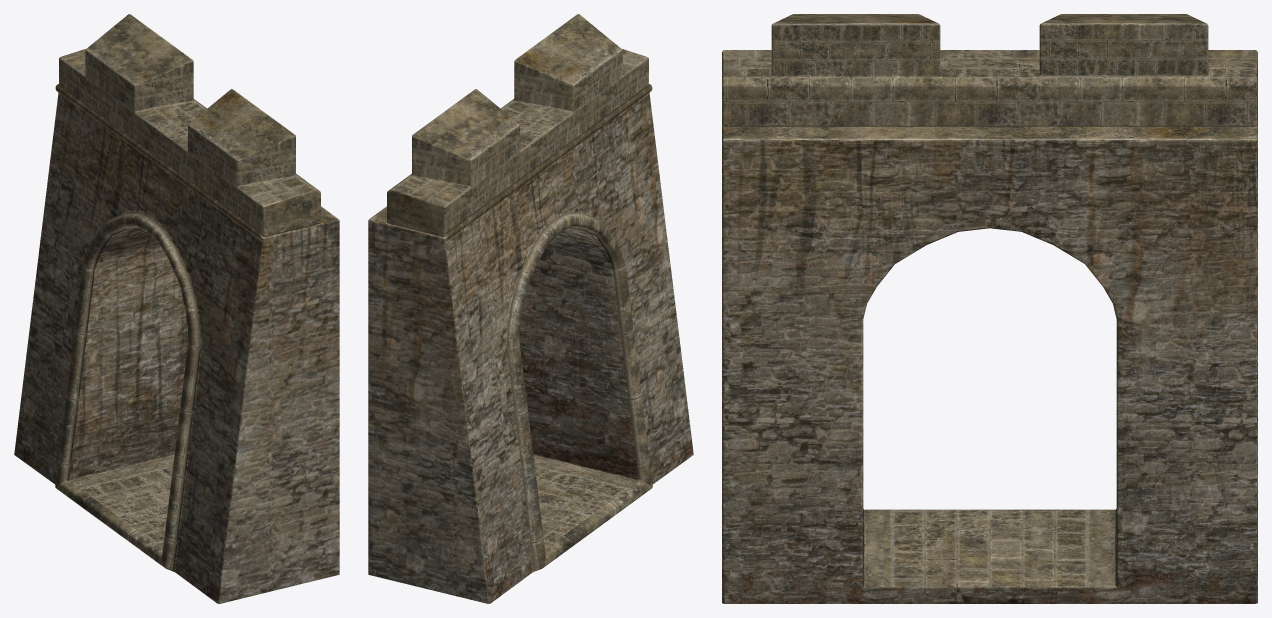
File: gate.gltf
The picture shows the model from 3 angles, left to right: view 1: azimuth 30°, elevation 25°; view 2: azimuth 150°, elevation 25°; view 3: azimuth 270°, elevation 25°; orthographic projection. The views are drawn at different scales.
Visible parts, largest first — view 1: modular_fort_01_wall_thin_gate_01; view 2: modular_fort_01_wall_thin_gate_01; view 3: modular_fort_01_wall_thin_gate_01.
Boxes of the visible parts, <box> form: modular_fort_01_wall_thin_gate_01: <box>14,14,339,603</box>; modular_fort_01_wall_thin_gate_01: <box>368,14,693,603</box>; modular_fort_01_wall_thin_gate_01: <box>722,14,1257,603</box>.
Size of the model in its own units: 2.67 by 8.62 by 7.41.
Materials: 2 (2 with a texture image).
